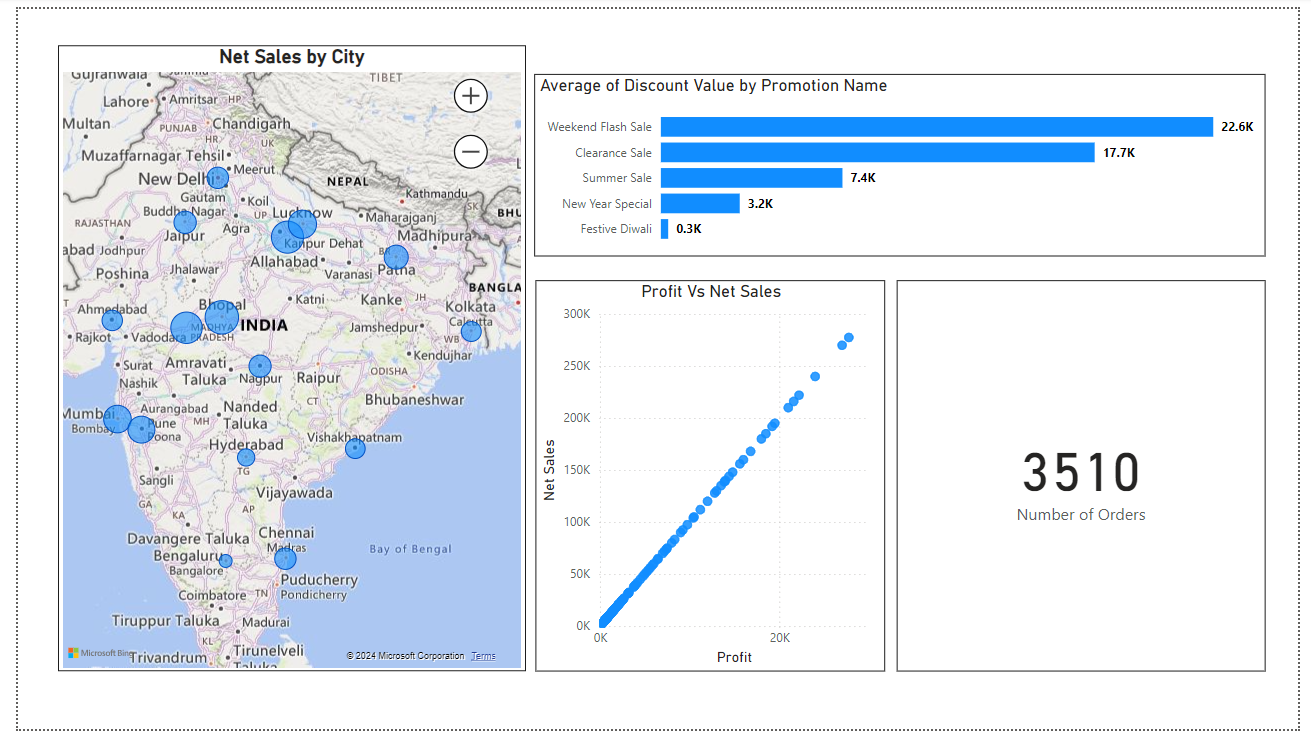

The page's visual inventory and layout, read from the dashboard file:
{"tool":"powerbi","page":{"name":"Location View","canvas":[1280,720],"ordinal":3},"visuals":[{"type":"map","title":"Net Sales by City","fields":{"Category":["Dim Customers.City"],"Size":["Sum(Fact Table.Net Sales)"]},"box":[39.8,35.7,467.9,627.1],"z":0},{"type":"scatterChart","title":"Profit Vs Net Sales","fields":{"X":["Fact Table.Profit"],"Y":["Fact Table.Net Sales"]},"box":[517.3,271.7,349.9,391.1],"z":1000},{"type":"card","fields":{"Values":["CountNonNull(Fact Table.OrderID)"]},"box":[878.2,271.7,369.1,391.1],"z":2000},{"type":"barChart","fields":{"Y":["Avg(Fact Table.Discount Value)"],"Category":["Dim Promotion.Promotion Name"]},"box":[516.7,64.8,731.2,182.1],"z":3000}]}

Visuals, with their boxes in screenshot pixels (x1, y1, x2, y2), scaled from the page's 1280x720 canvas onto the 1311x740 screenshot:
"Net Sales by City" map: (41,37,520,681)
"Profit Vs Net Sales" scatterChart: (530,279,888,681)
card - CountNonNull(Fact Table.OrderID): (899,279,1278,681)
barChart - Avg(Fact Table.Discount Value) x Dim Promotion.Promotion Name: (529,67,1278,254)
